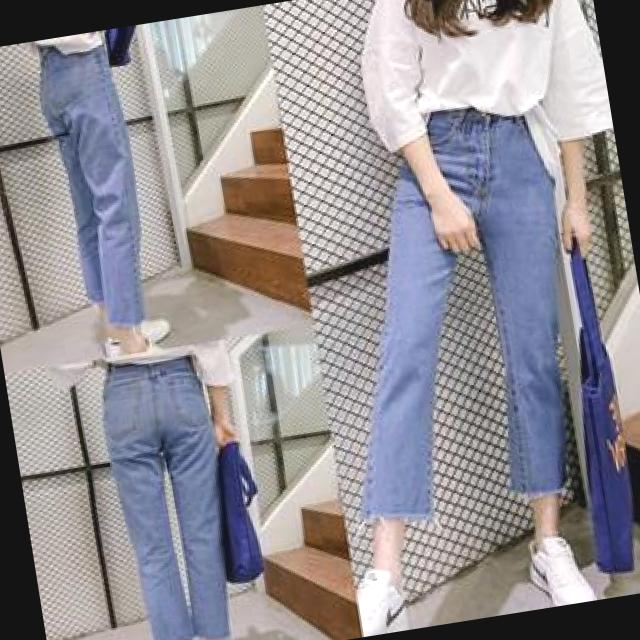pants: (314, 109, 604, 526), (90, 357, 252, 640), (29, 42, 157, 342)
sweater: (349, 0, 614, 169)
